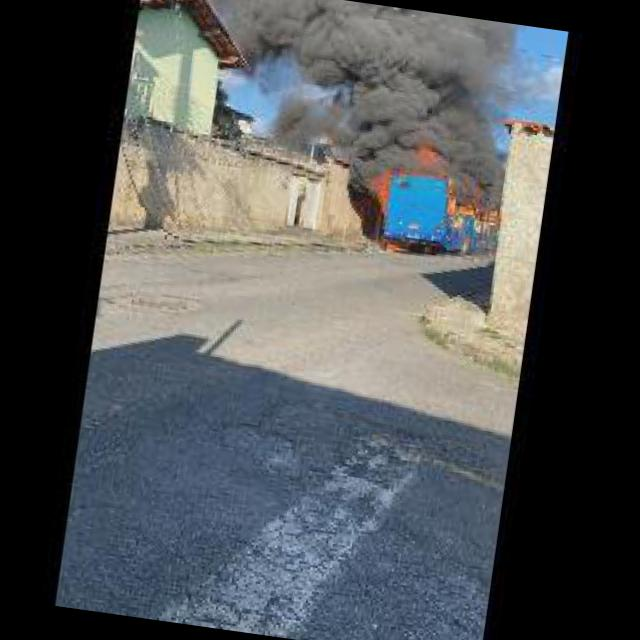fire: (375, 168, 400, 214), (447, 198, 482, 216), (486, 205, 502, 226), (386, 240, 409, 252)
smoke: (196, 0, 529, 188)
